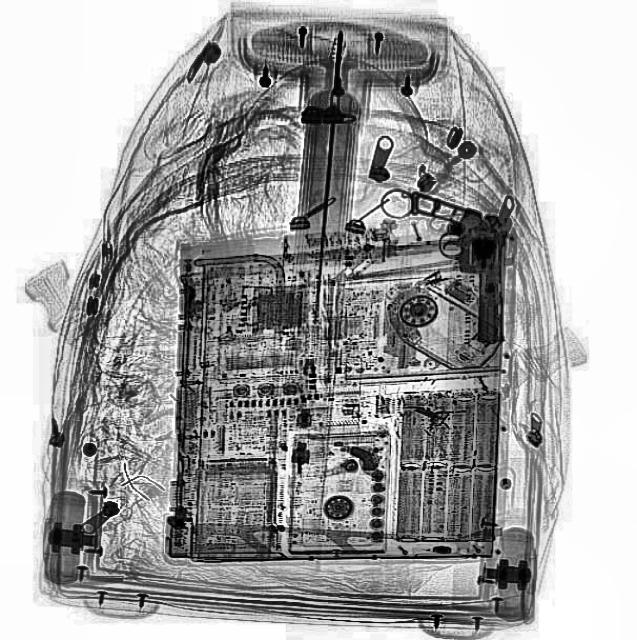Gun: (396, 191, 516, 345)
